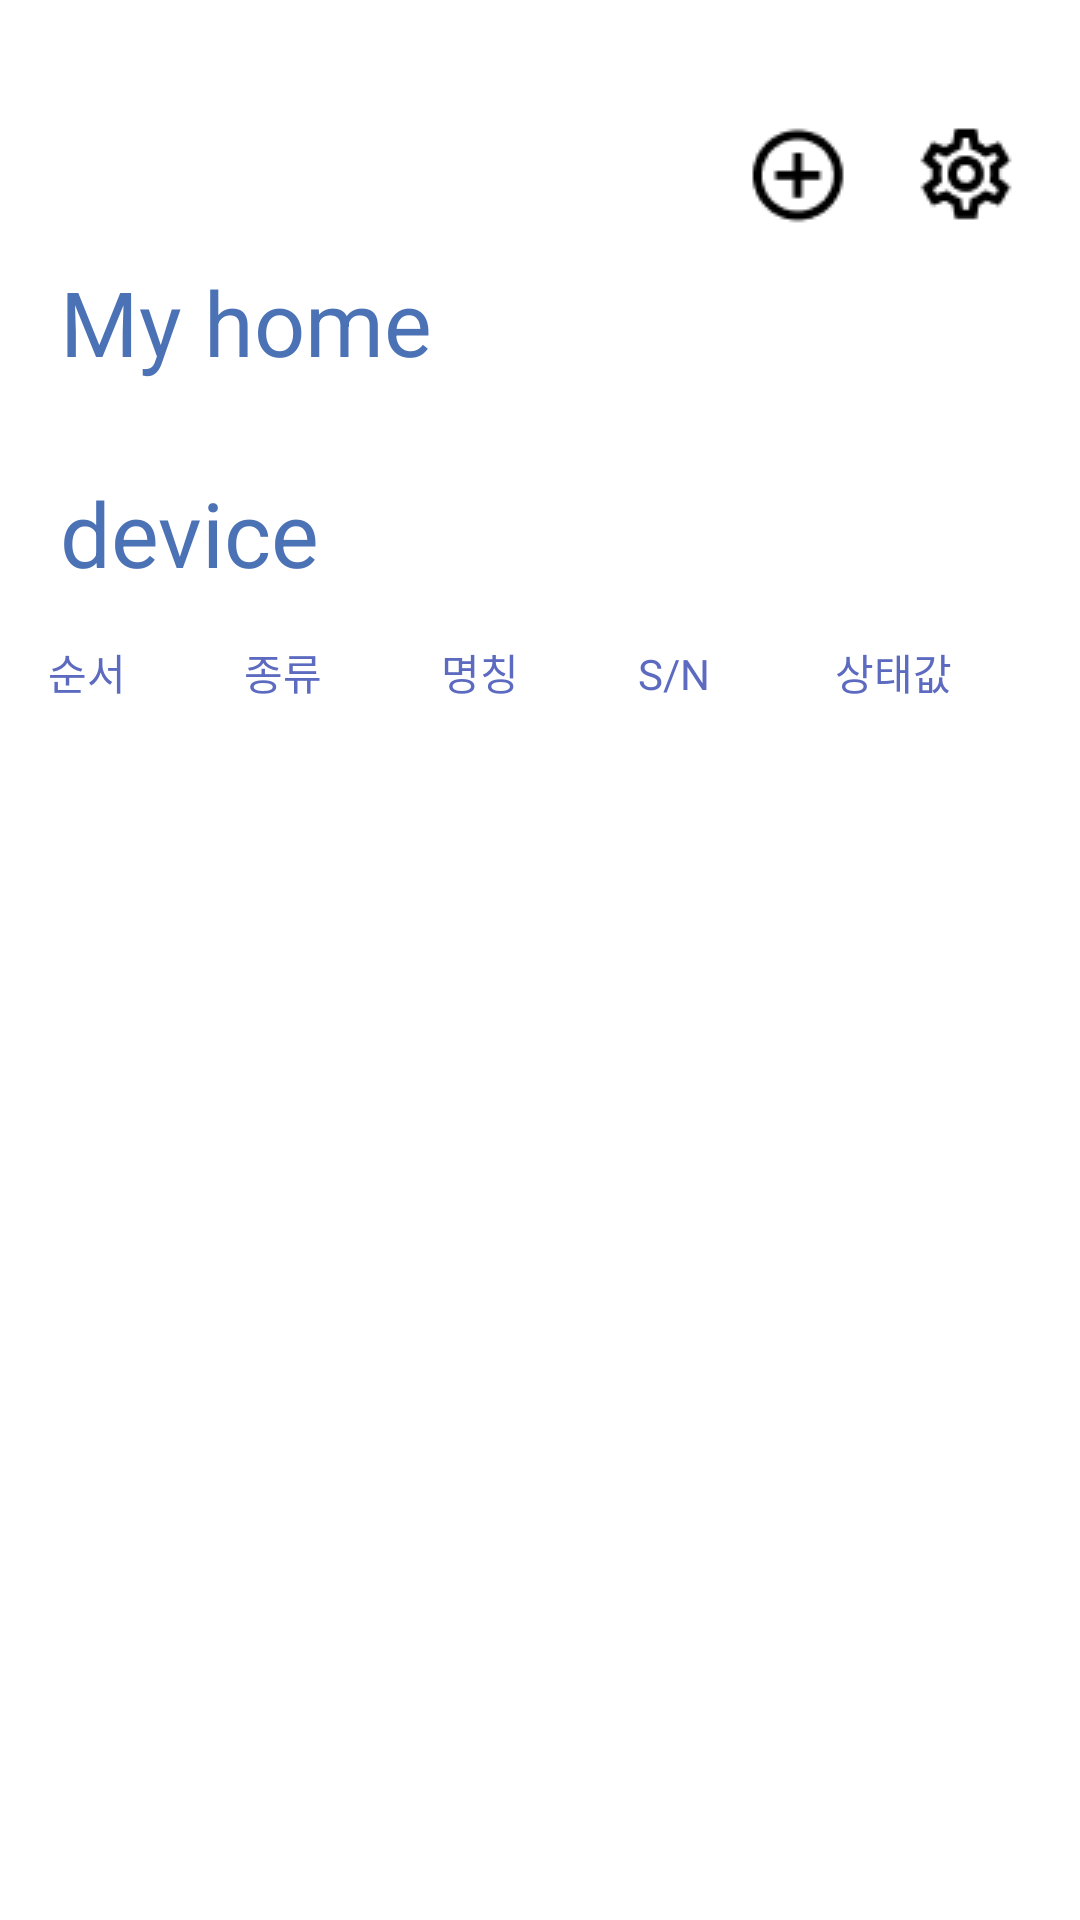

Point at icon controls on the screen. Image size 1080×1920, points as point (x, y).
add: point (798, 175)
setting: point (966, 174)
